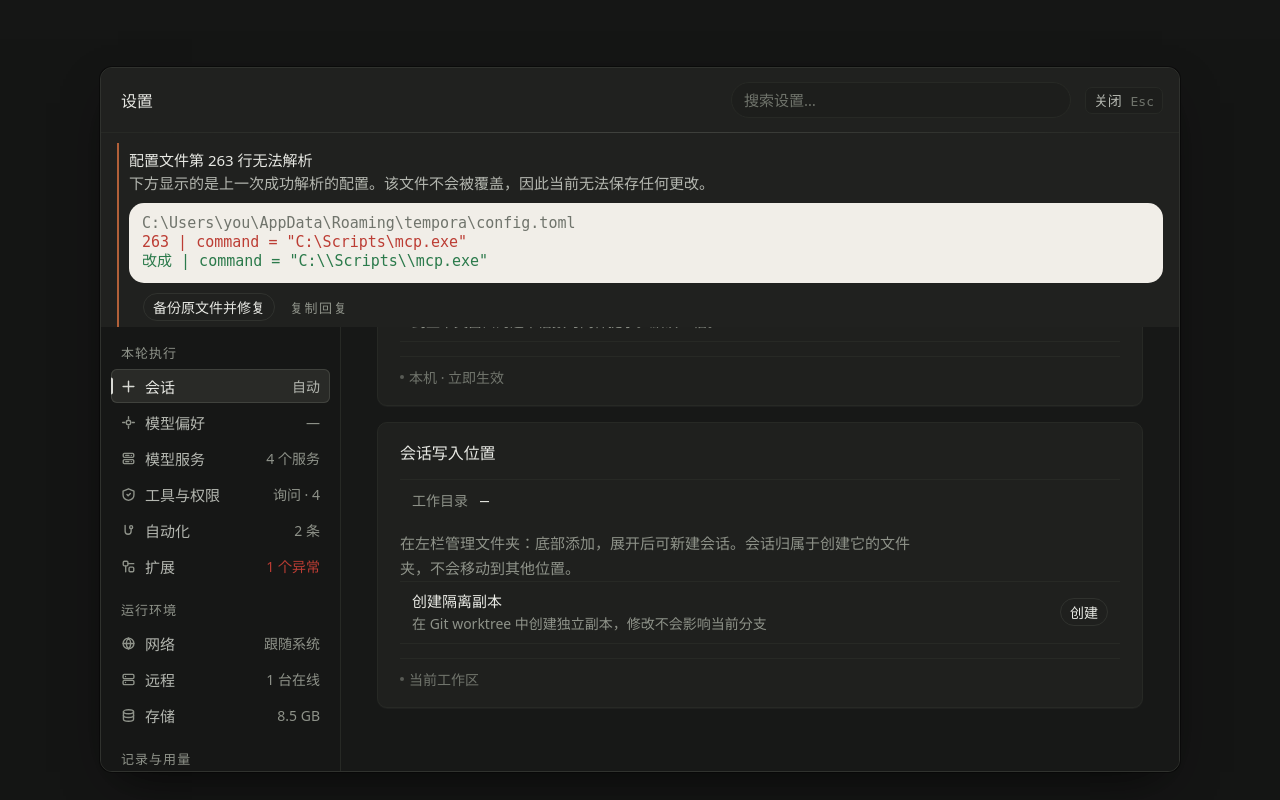
Test: a write the kernel refuses › says so on whichever page the click was made
(page scrolled)
Click the button "创建".
click(1084, 612)  # box 1060,598 -> 1108,626
(page scrolled)
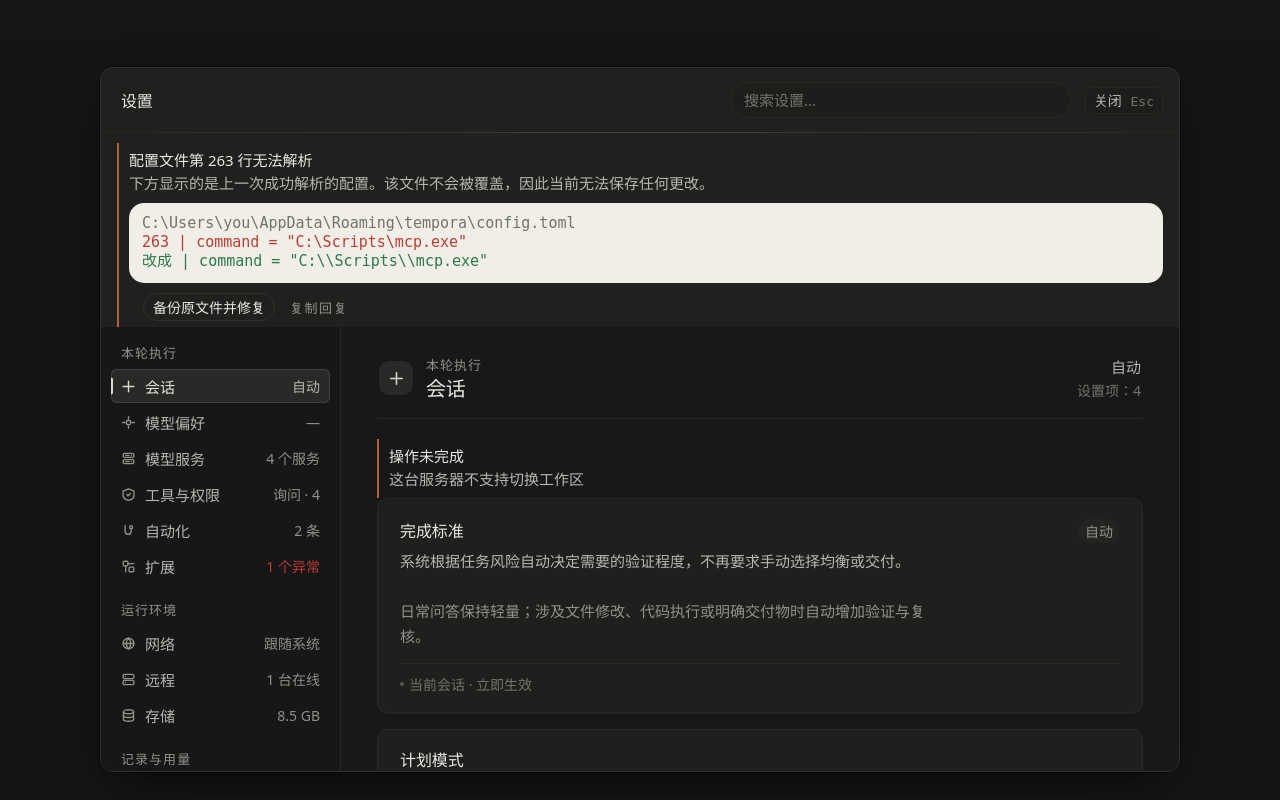
Now the text "这台服务器不支持切换工作区" is shown, box 389,469 -> 584,489
